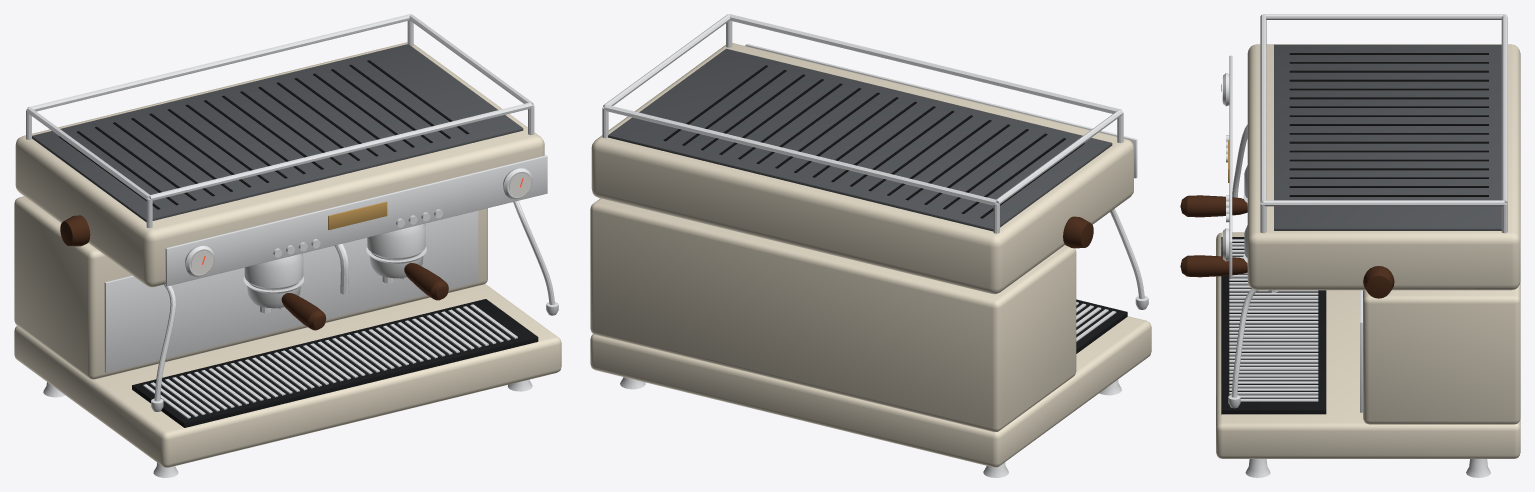
Rendered from espresso_cream.glb.
3 views of the same model, side by side, from view 1: azimuth 30°, elevation 25°; view 2: azimuth 150°, elevation 25°; view 3: azimuth 270°, elevation 25° (orthographic). The views are drawn at different scales.
Visible parts, largest first — view 1: cream_2g; view 2: cream_2g; view 3: cream_2g.
Boxes of the visible parts, x1=… form: cream_2g: x1=14, y1=14, x2=561, y2=477; cream_2g: x1=590, y1=14, x2=1151, y2=477; cream_2g: x1=1180, y1=14, x2=1520, y2=477.
Size of the model in its own units: 0.96 by 0.5859 by 0.648.
